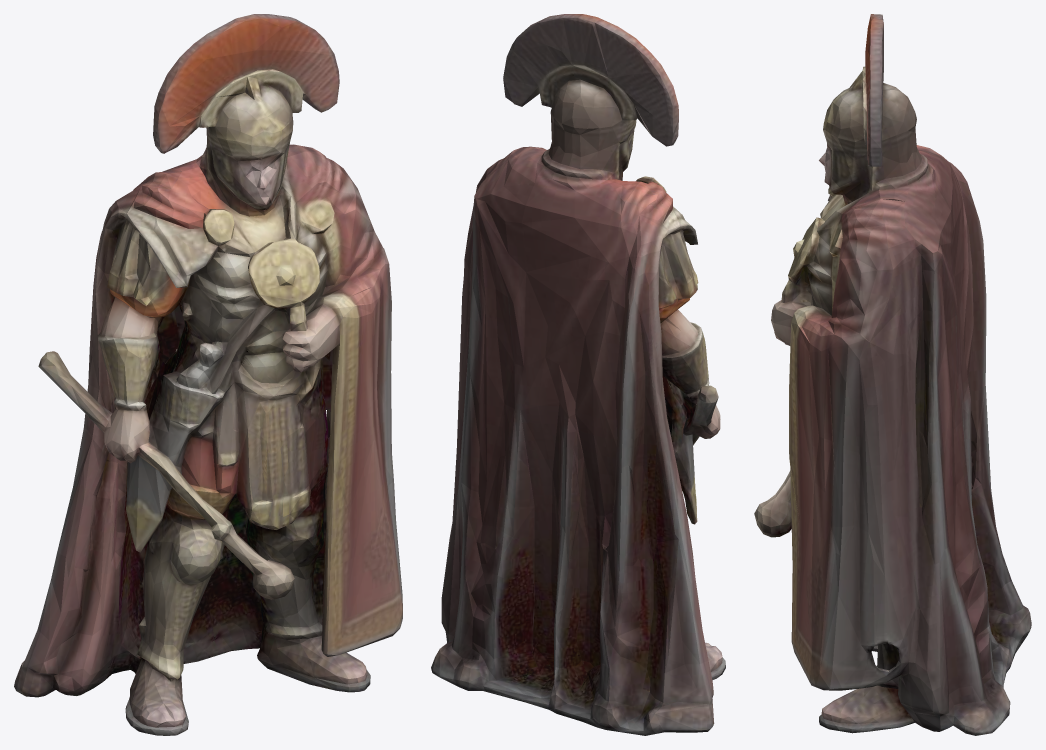
File: raidOptioKarvan.glb
3 views of the same model, side by side, from view 1: azimuth 30°, elevation 25°; view 2: azimuth 150°, elevation 25°; view 3: azimuth 270°, elevation 25° (orthographic). The views are drawn at different scales.
Visible parts, largest first — view 1: world; view 2: world; view 3: world.
Part boxes in pixels (x1,y1,x2,y2): world: [14, 14, 402, 735]; world: [431, 14, 725, 735]; world: [754, 14, 1031, 735].
Bounding box in the file's own units: 0.4894 × 0.9986 × 0.3799.
1 material, 1 textured.
